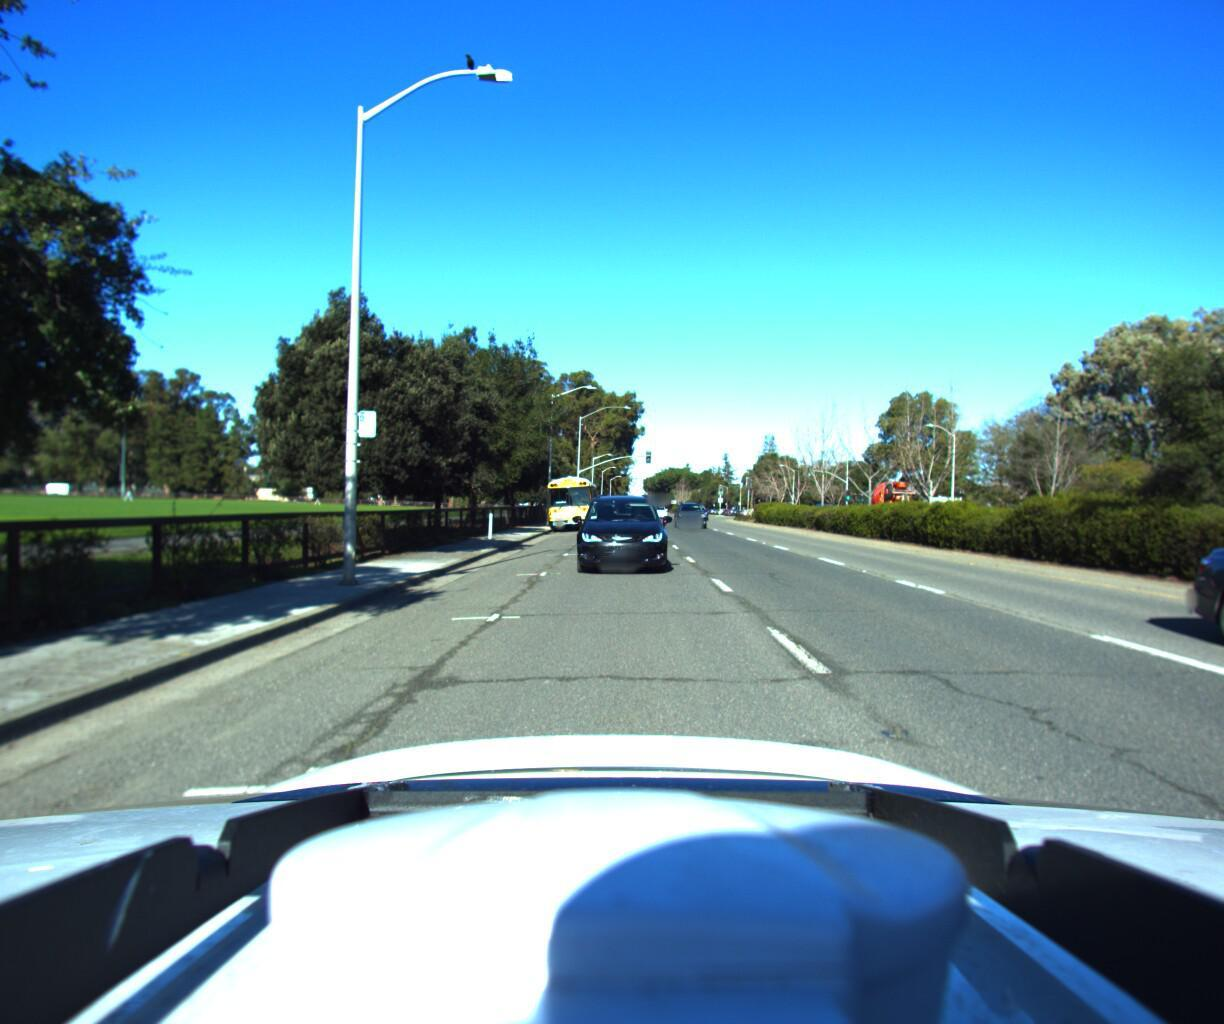bus: (542, 475, 600, 529)
car: (574, 488, 666, 576), (916, 493, 966, 528), (673, 498, 710, 529), (651, 505, 669, 522)
truck: (843, 474, 927, 529)
